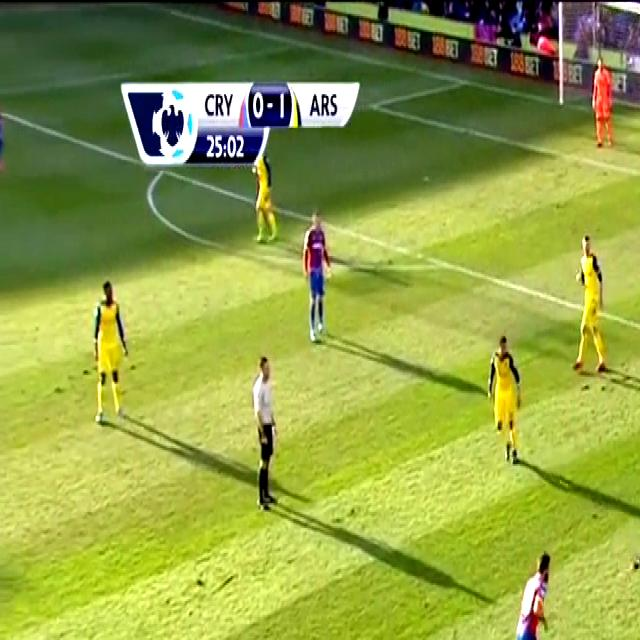goalkeeper: (584, 59, 618, 153)
referee: (242, 352, 290, 518)
soccer-player: (85, 283, 141, 438), (568, 227, 617, 377), (298, 207, 346, 346), (480, 332, 526, 471), (507, 551, 568, 640), (248, 146, 284, 244), (628, 515, 640, 640), (0, 97, 14, 186)
